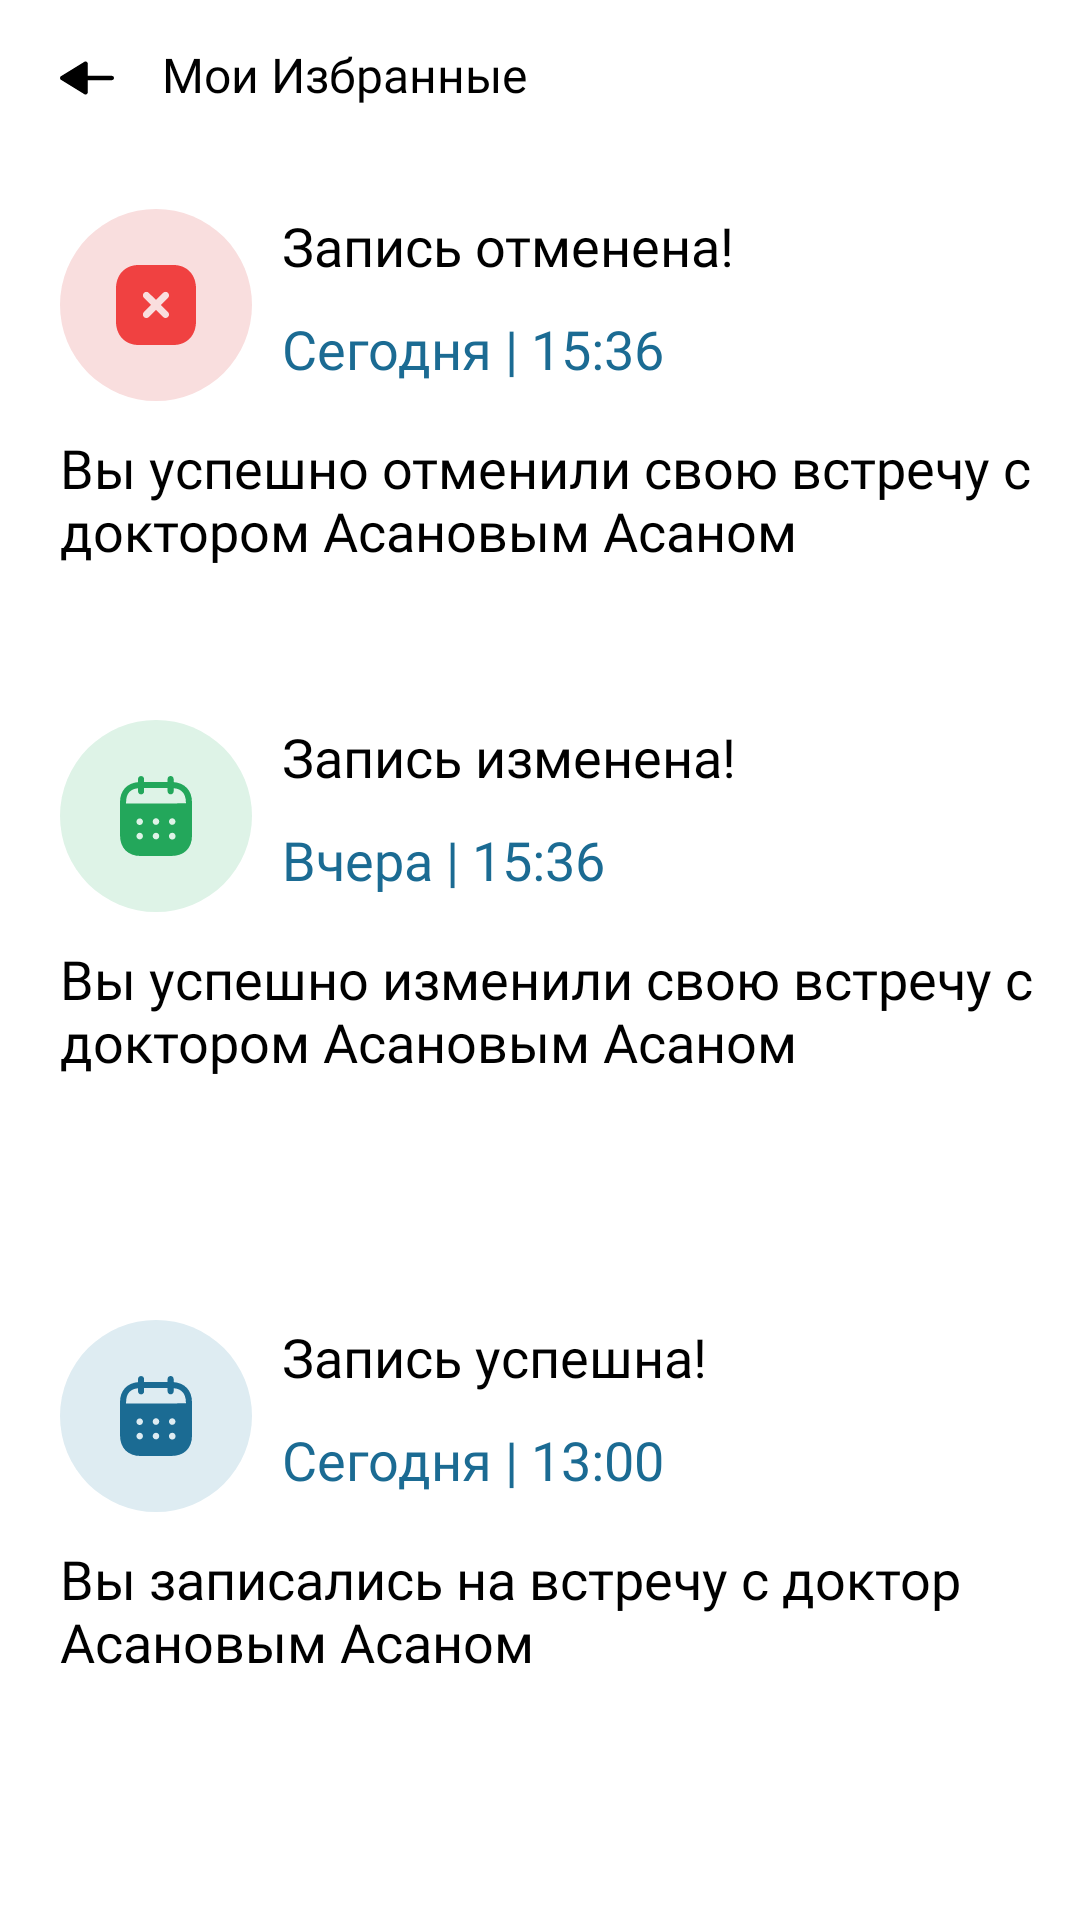

Where icons sit on this 1080px x 1920px app screen, as {"x1": x1, "y1": y1, "x2": x2, "y2": y2}:
arrowleft: {"x1": 60, "y1": 61, "x2": 114, "y2": 95}
error: {"x1": 60, "y1": 209, "x2": 252, "y2": 401}
